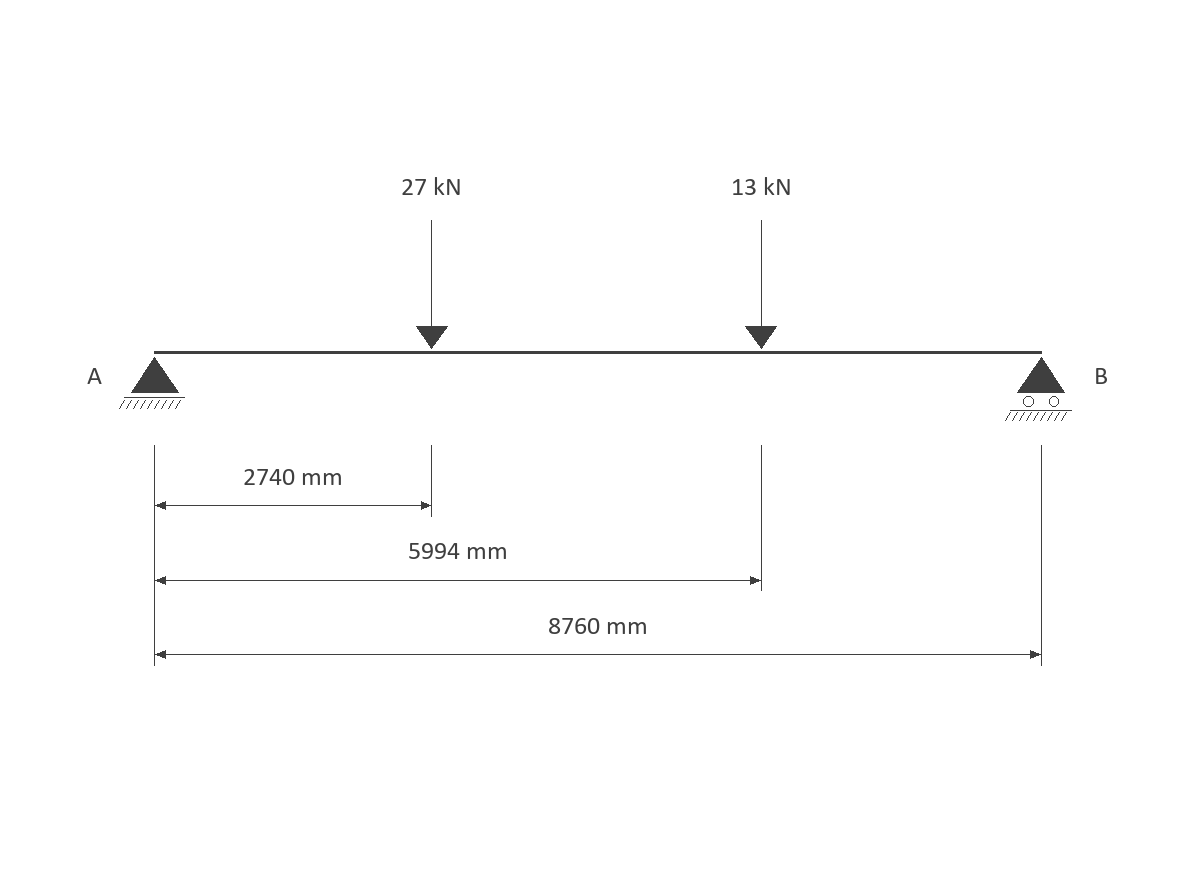pin_support: (119, 357, 185, 409)
point_load: (416, 220, 448, 349), (745, 220, 777, 349)
roller_support: (1005, 357, 1072, 421)
